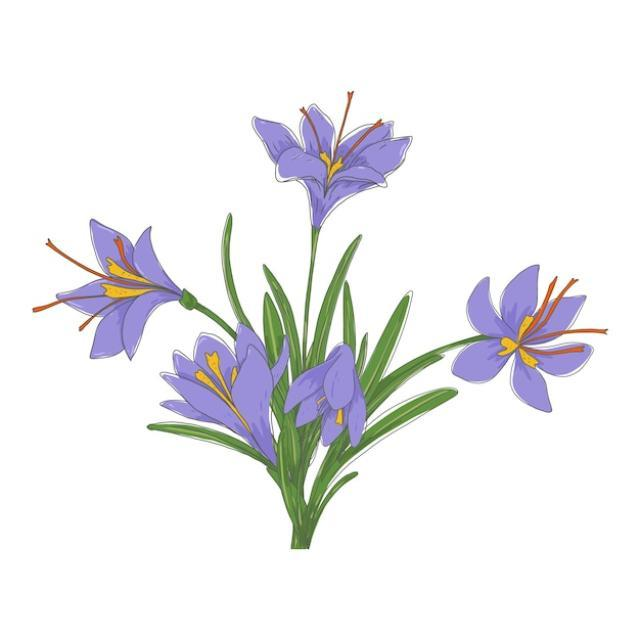Flower: (38, 218, 192, 366), (244, 100, 421, 227), (456, 261, 596, 421), (154, 334, 296, 482), (280, 342, 368, 455)
stigma: (41, 235, 106, 279), (528, 320, 613, 348), (24, 286, 102, 311), (328, 86, 352, 161), (82, 304, 116, 336)
